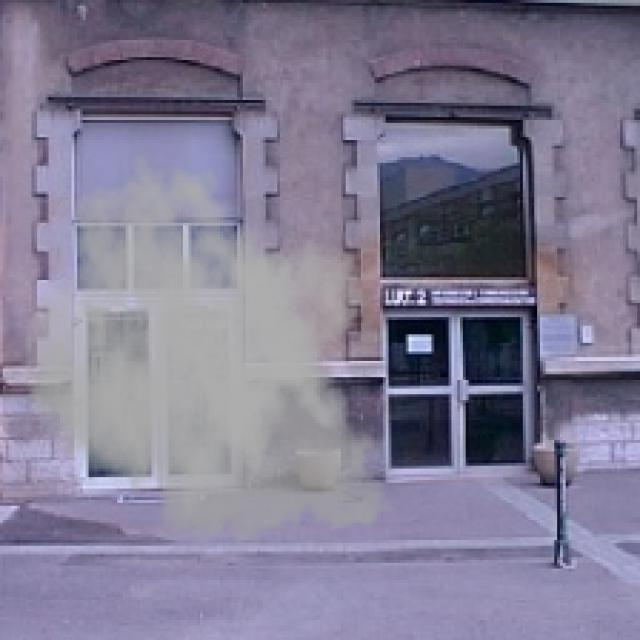Smoke: (23, 152, 403, 554)
